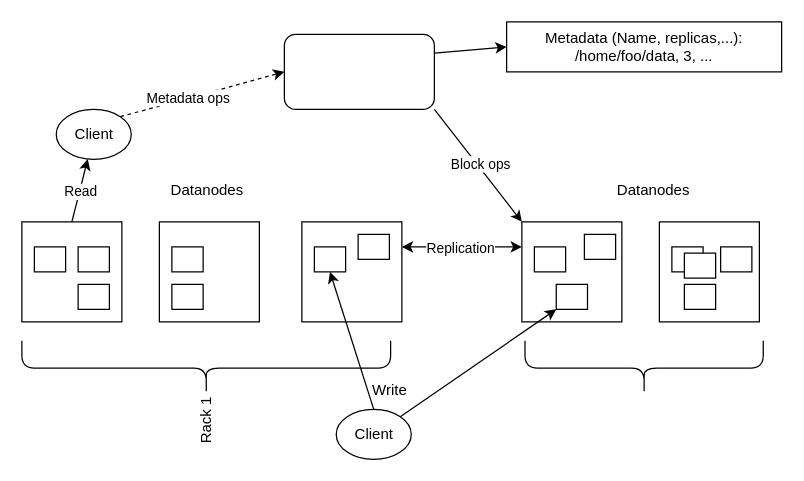
This 804x481 diagram has some shape labels left out. Here are the shapes that lost their labels. From the top down, the centre of each, then its label:
At point (358, 71): "Namenode".
At point (643, 367): "Rack 2".
